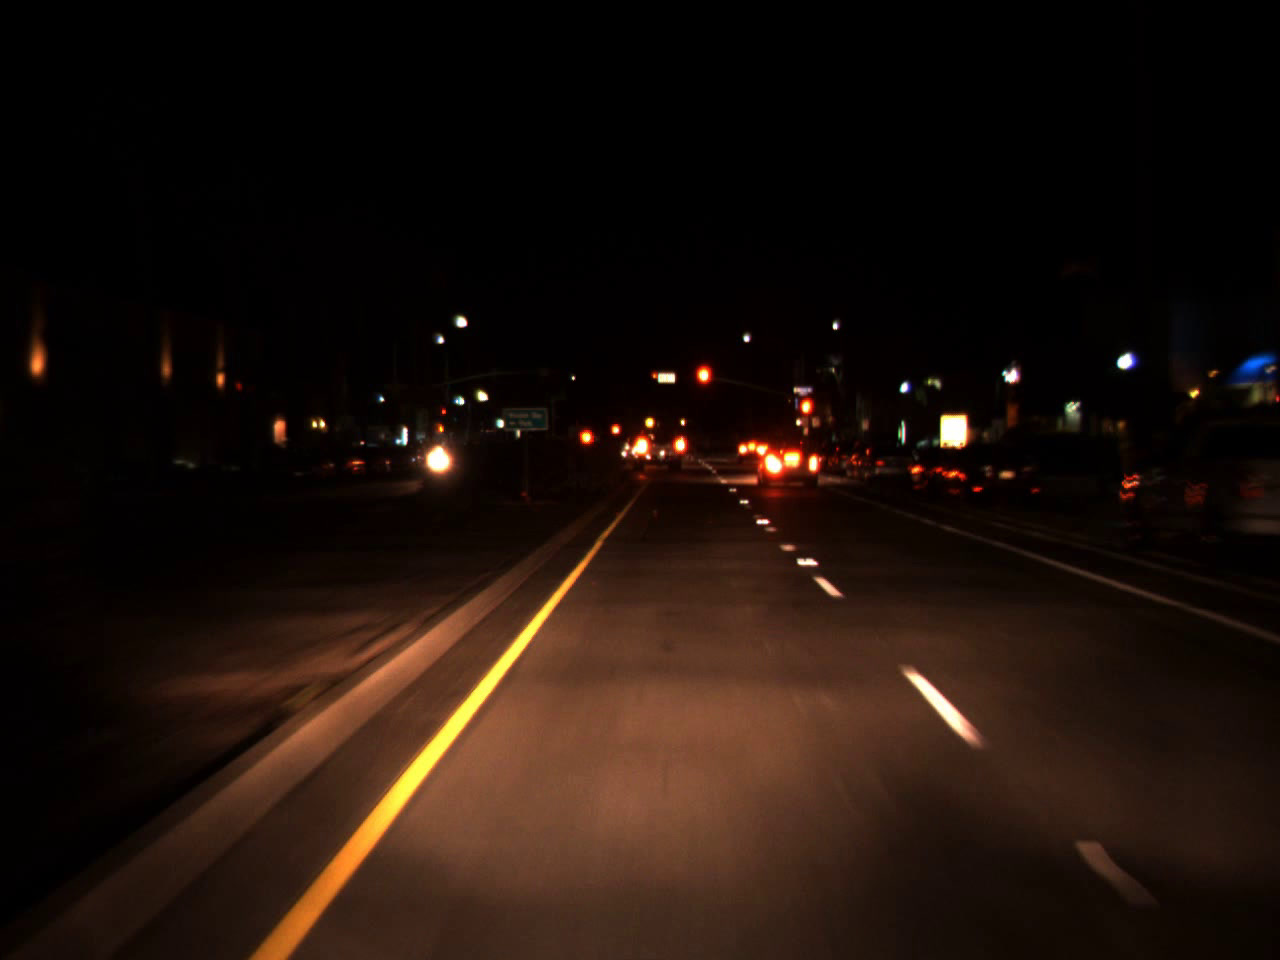stop: (693, 362, 714, 407), (797, 395, 815, 435), (651, 373, 658, 383), (441, 409, 447, 419)
